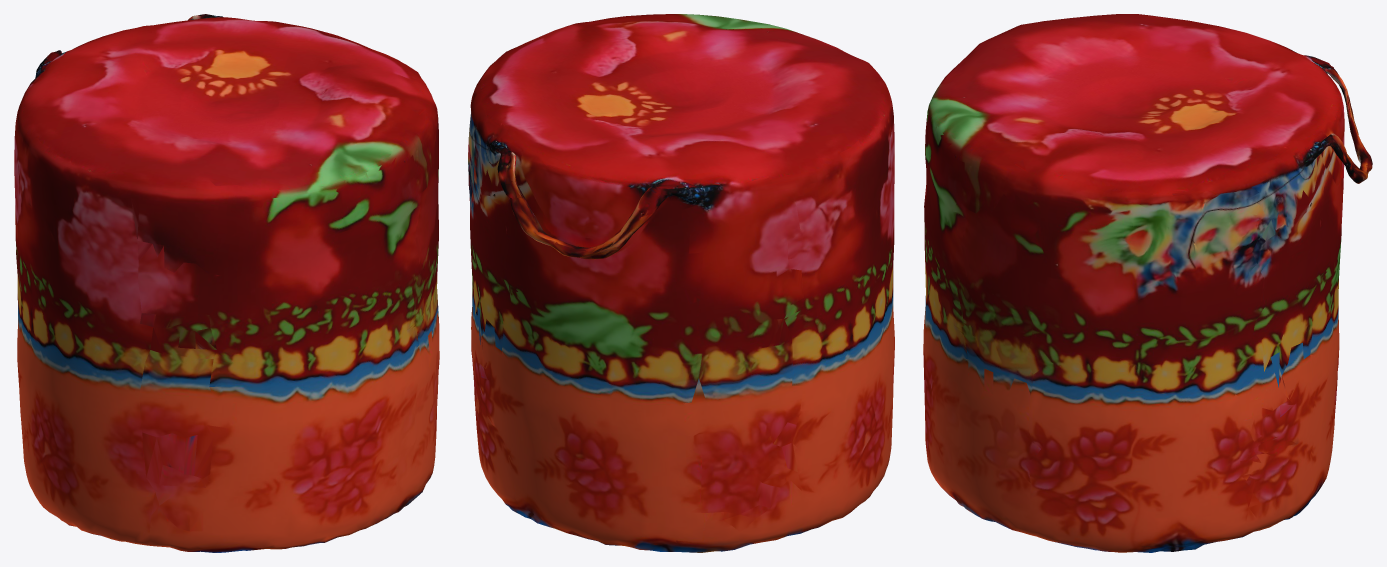
File: dundun5.glb
3 views of the same model, side by side, from view 1: azimuth 30°, elevation 25°; view 2: azimuth 150°, elevation 25°; view 3: azimuth 270°, elevation 25° (orthographic).
Parts seen in each view (by area): view 1: tripo_node_aee6c3b1; view 2: tripo_node_aee6c3b1; view 3: tripo_node_aee6c3b1.
Boxes of the visible parts, x1=… form: tripo_node_aee6c3b1: x1=14, y1=14, x2=439, y2=552; tripo_node_aee6c3b1: x1=468, y1=14, x2=894, y2=552; tripo_node_aee6c3b1: x1=923, y1=14, x2=1372, y2=552.
Size of the model in its own units: 0.9525 by 0.9516 by 0.9995.
Materials: 1 (1 with a texture image).
